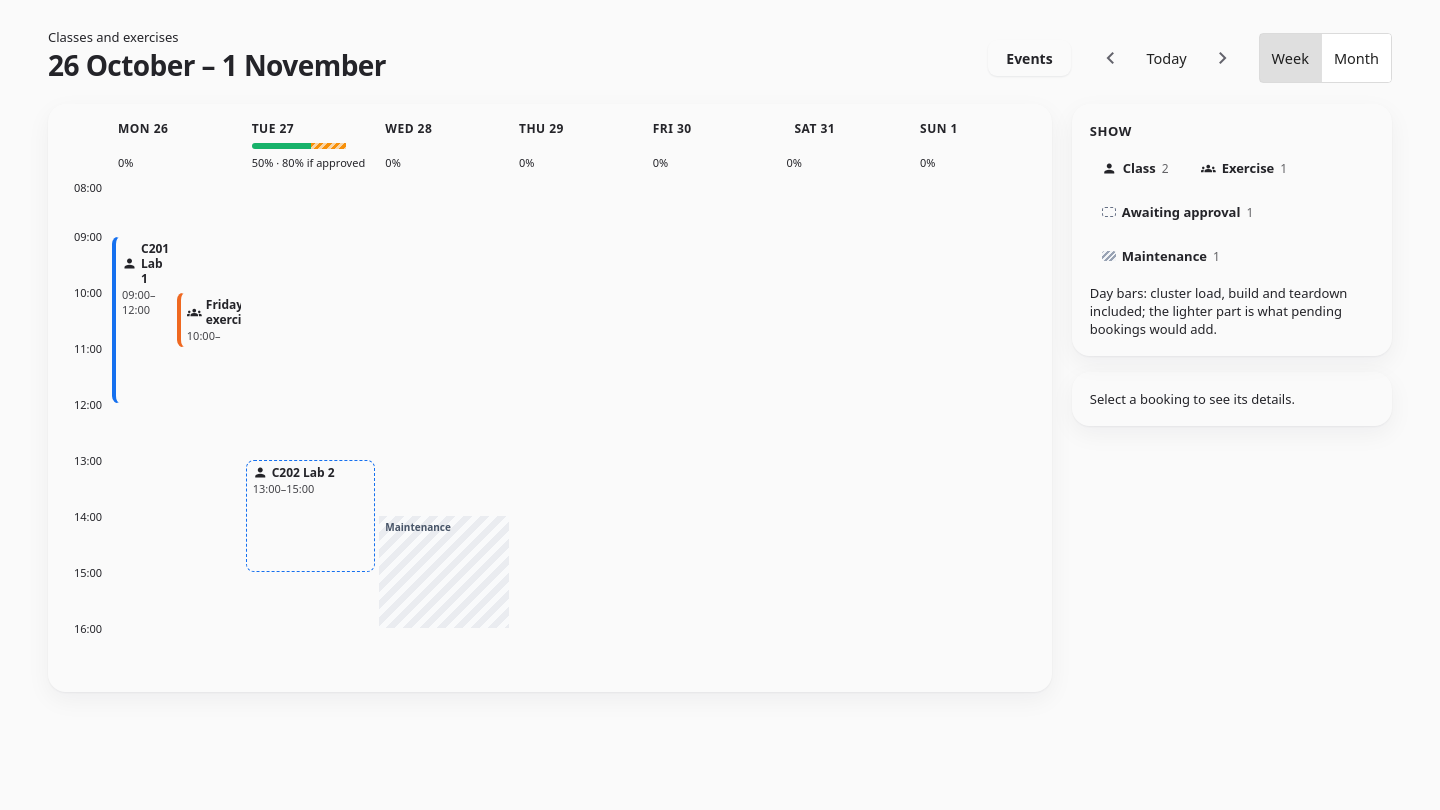
Test: EventsCalendarComponent › RBAC › observers read only: no queue, no Move, no Book, no Content tab
Click the button "C201 Lab 1 09:00–12:00".
click(144, 320)  # box [112,236,177,404]
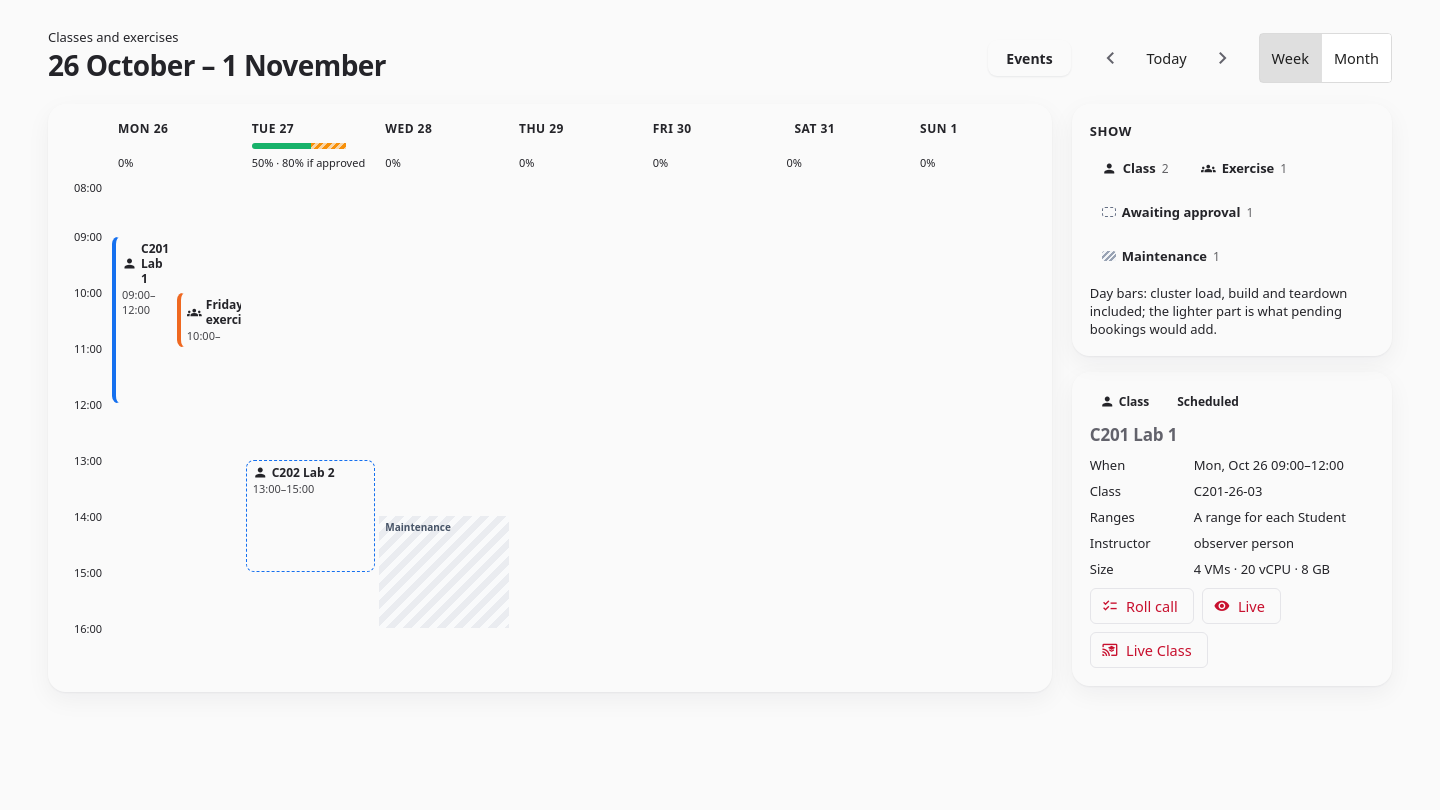
Now the link "Roll call" is shown, box [1090,588,1194,624]
Now the link "Live Class" is shown, box [1090,632,1208,668]
